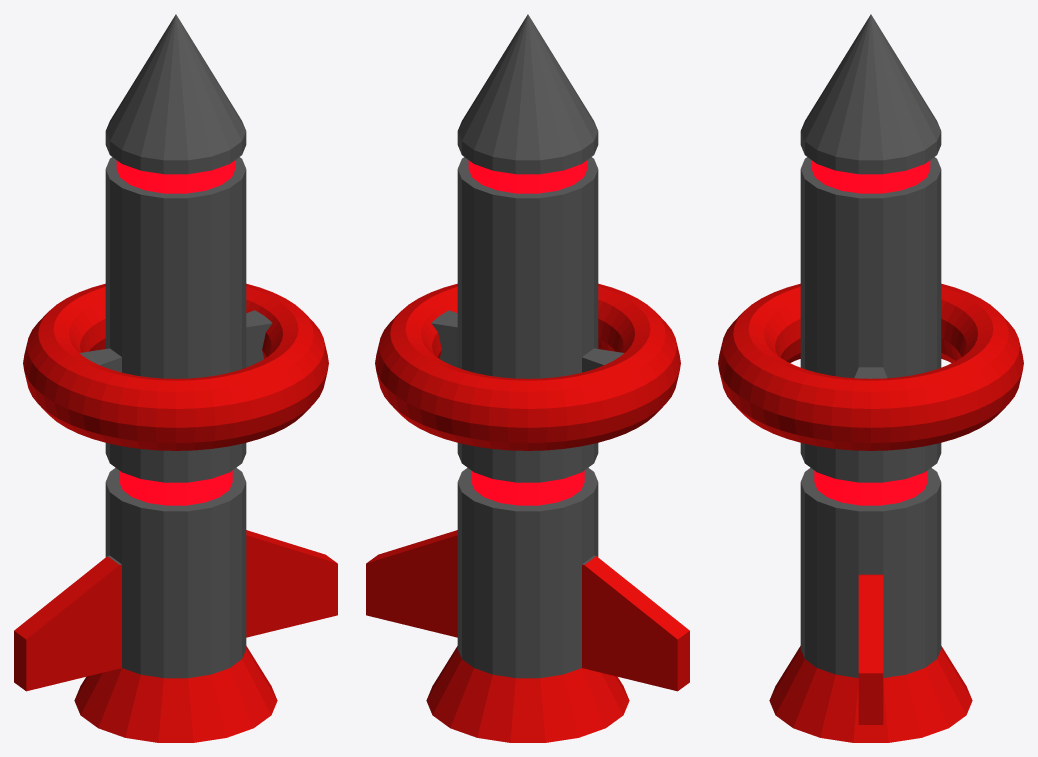
Rendered from LowpolyRocket.glb.
The picture shows the model from 3 angles, left to right: view 1: azimuth 30°, elevation 25°; view 2: azimuth 150°, elevation 25°; view 3: azimuth 270°, elevation 25°; orthographic projection.
Parts seen in each view (by area): view 1: Rocket; view 2: Rocket; view 3: Rocket.
Part boxes in pixels (<box>): Rocket: <box>14,14,337,742</box>; Rocket: <box>366,14,689,742</box>; Rocket: <box>718,14,1023,742</box>.
Bounding box in the file's own units: 1.75 × 3.69 × 1.49.
